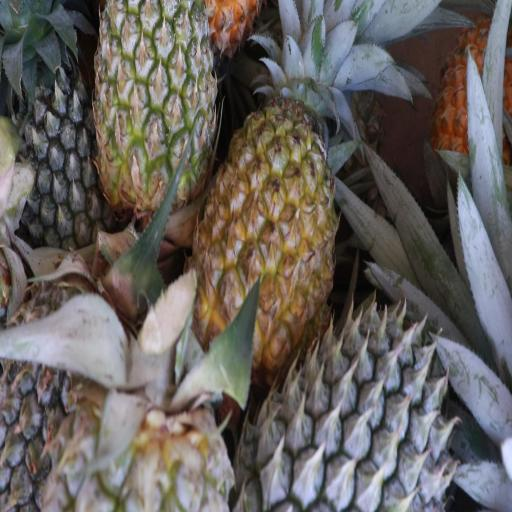------------------------------: (92, 0, 213, 210)
Pineapple - v8 v1: (194, 104, 336, 358), (432, 15, 512, 176)
